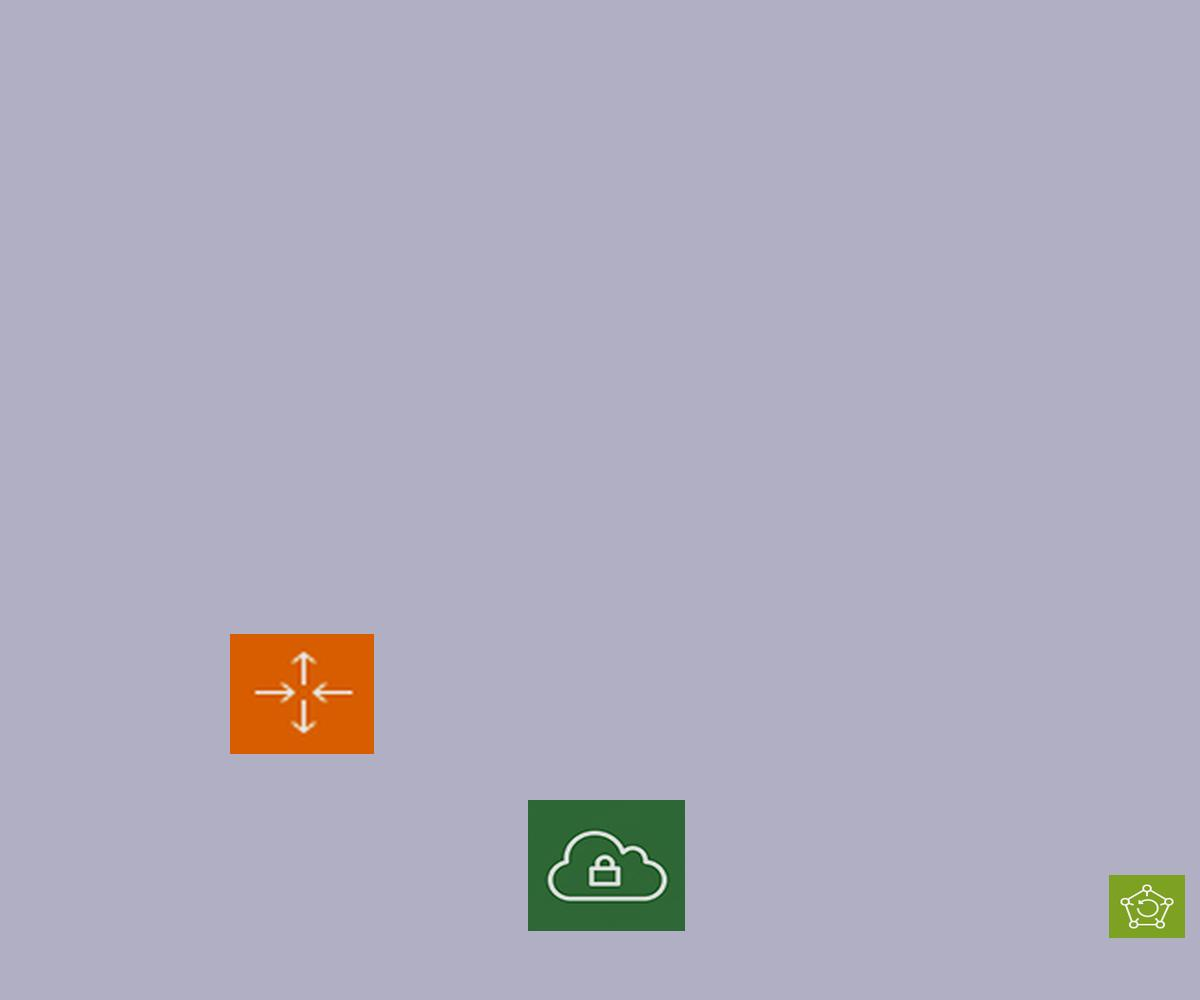AWS-Backup: (1109, 875, 1185, 938)
AWS-Private_vpc: (528, 800, 685, 931)
AWS-Scaling-group: (230, 634, 374, 754)
